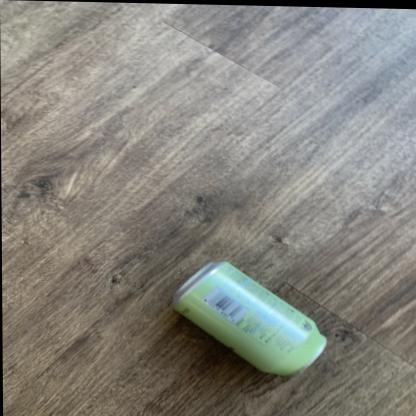trash: (173, 261, 326, 374)
